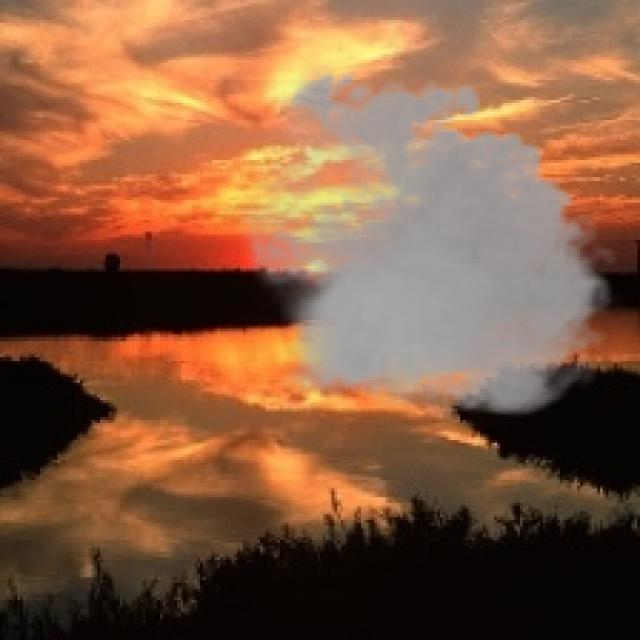smoke: (225, 60, 626, 429)
